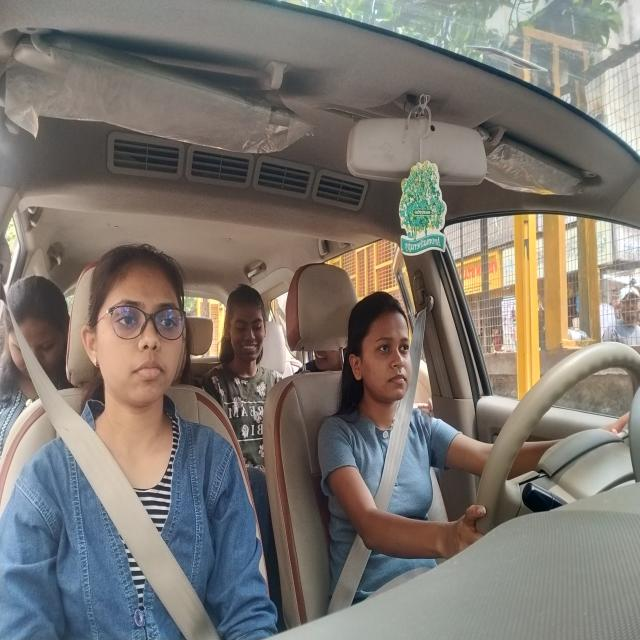person: (79, 247, 195, 407), (0, 278, 71, 388), (350, 297, 414, 408), (220, 287, 269, 372)
